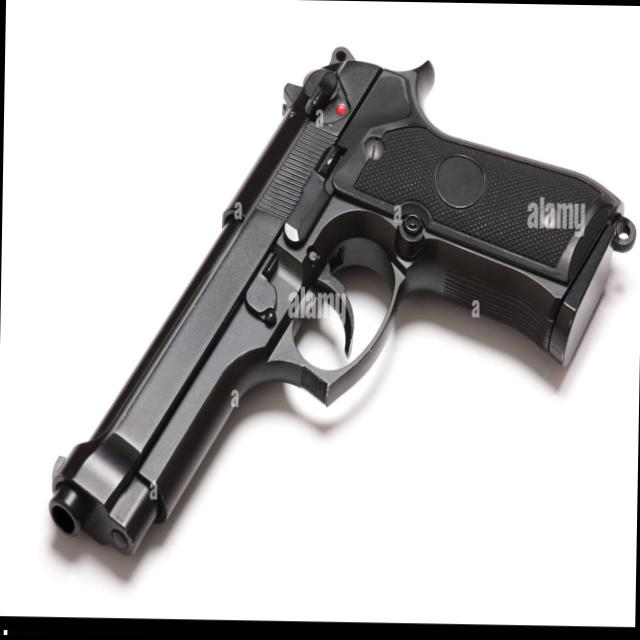Gun: (26, 11, 634, 592)
